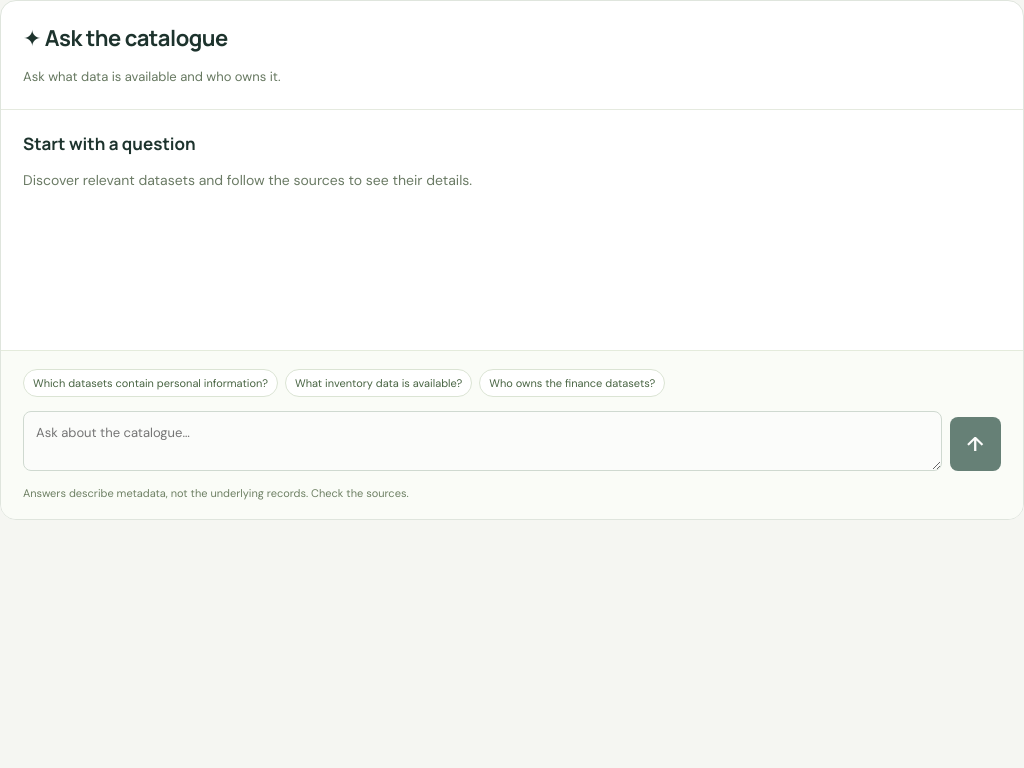
Scenario: Catalogue assistant › retains a failed question for retry
Type "Satellite data" into the text box named "Ask a question". click: (482, 440)
box: [23,410,942,470]
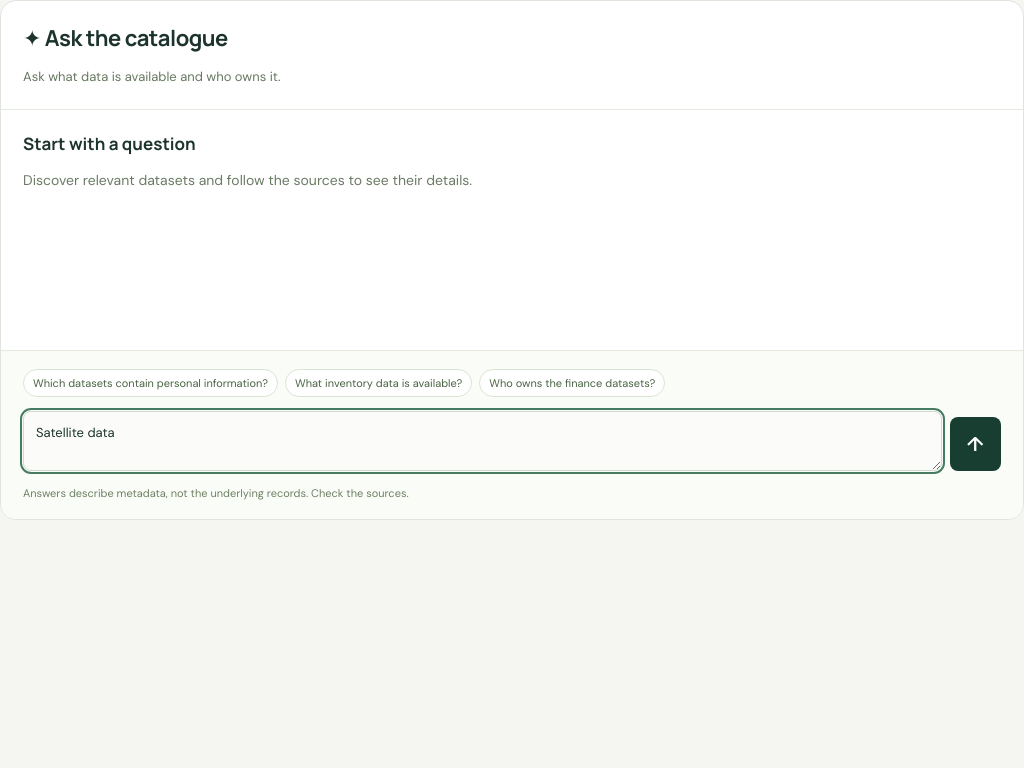
Click the button named "Send question". click: (975, 444)
box: [950,416,1001,470]
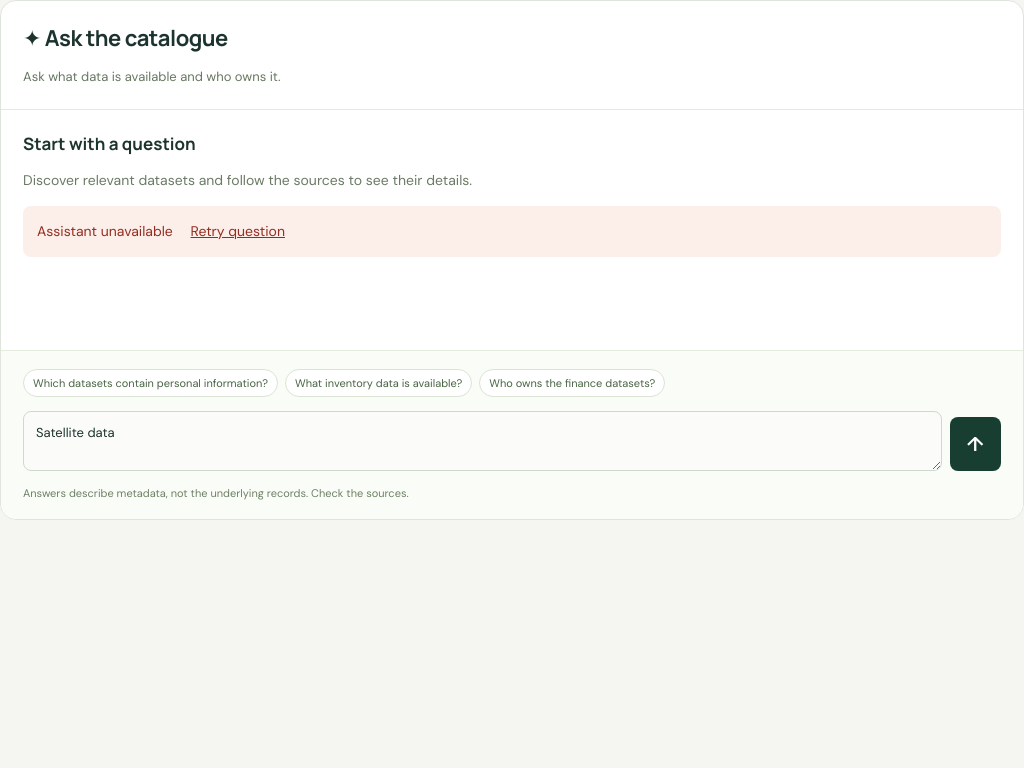
Now the text "Assistant unavailable" is shown, box [37,222,173,240]
Click the button "Retry question". click: (238, 231)
box: [184,220,291,243]
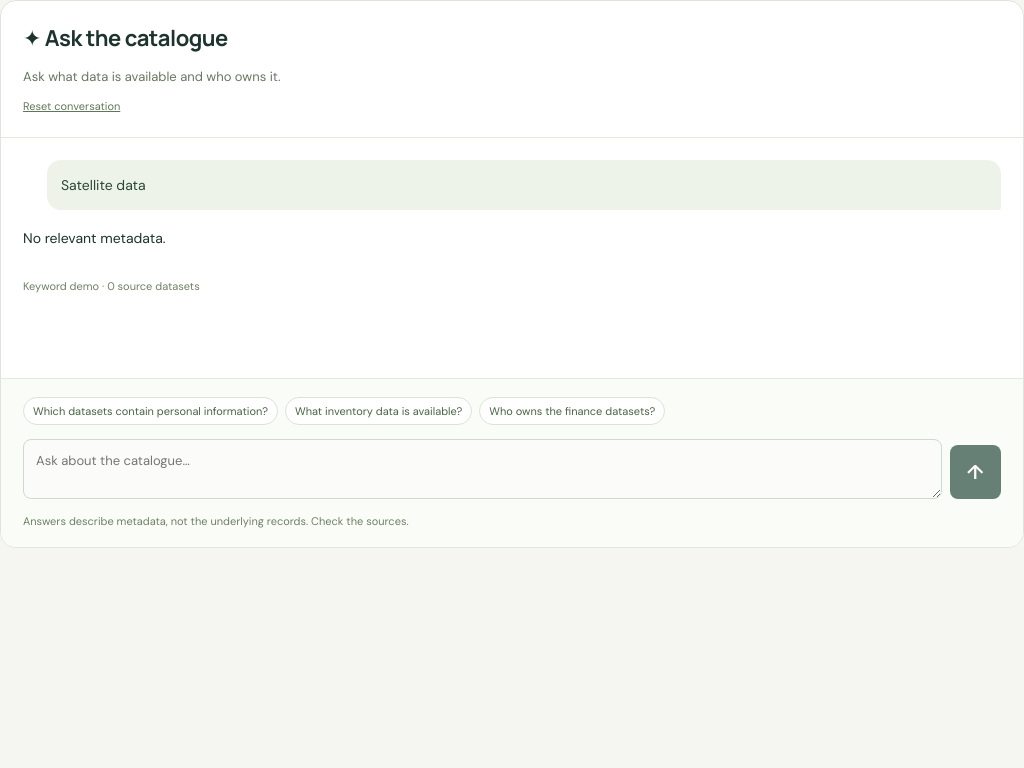
Now the text "No relevant metadata." is shown, box [23,229,166,247]
